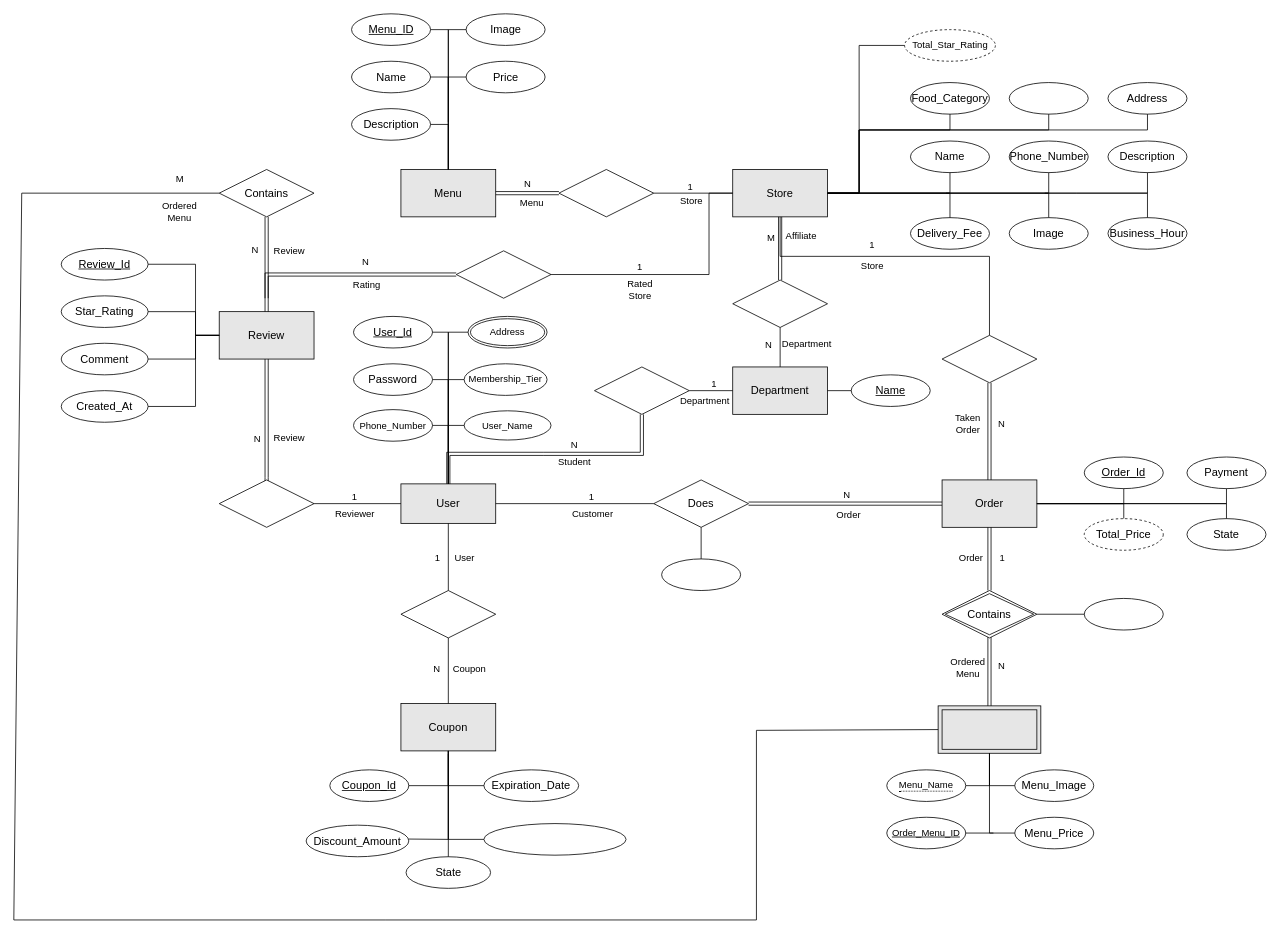
The diagram is 1280 pixels wide and 935 high, and some of its shapes have lost their labels. The shapes that lost their labels are listed below. From the top down, each one's centre as x and y in pixels, then its label:
point 1048,98: Store_Id
point 606,193: Sells
point 503,274: Rates
point 780,303: Cooperates
point 989,359: Takes
point 641,390: Belongs
point 266,503: Writes
point 701,574: Order_Date
point 448,614: Has
point 1123,614: Quantity
point 989,729: Order_Menu
point 554,839: Minimum_Order_Amount
